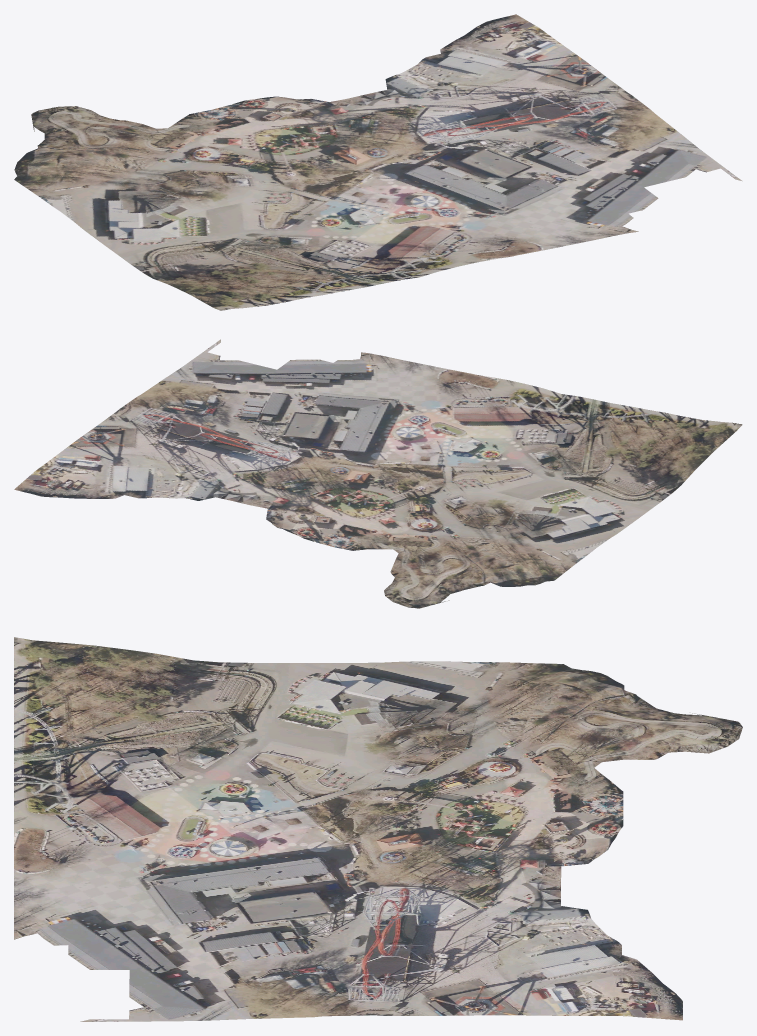
Rendered from CM_Terrain_24486363_6821841.fbx.
3 views of the same model, one above another, from view 1: azimuth 30°, elevation 25°; view 2: azimuth 150°, elevation 25°; view 3: azimuth 270°, elevation 25° (orthographic). The views are drawn at different scales.
Parts seen in each view (by area): view 1: CM_Terrain_24486363_6821841_LOD0; view 2: CM_Terrain_24486363_6821841_LOD0; view 3: CM_Terrain_24486363_6821841_LOD0.
Part boxes in pixels (left/top/right/bottom): CM_Terrain_24486363_6821841_LOD0: left=14, top=14, right=742, bottom=310; CM_Terrain_24486363_6821841_LOD0: left=14, top=339, right=742, bottom=608; CM_Terrain_24486363_6821841_LOD0: left=14, top=637, right=742, bottom=1021.
Size of what is drawn, in the model's own units: 205 by 8.51 by 178.
